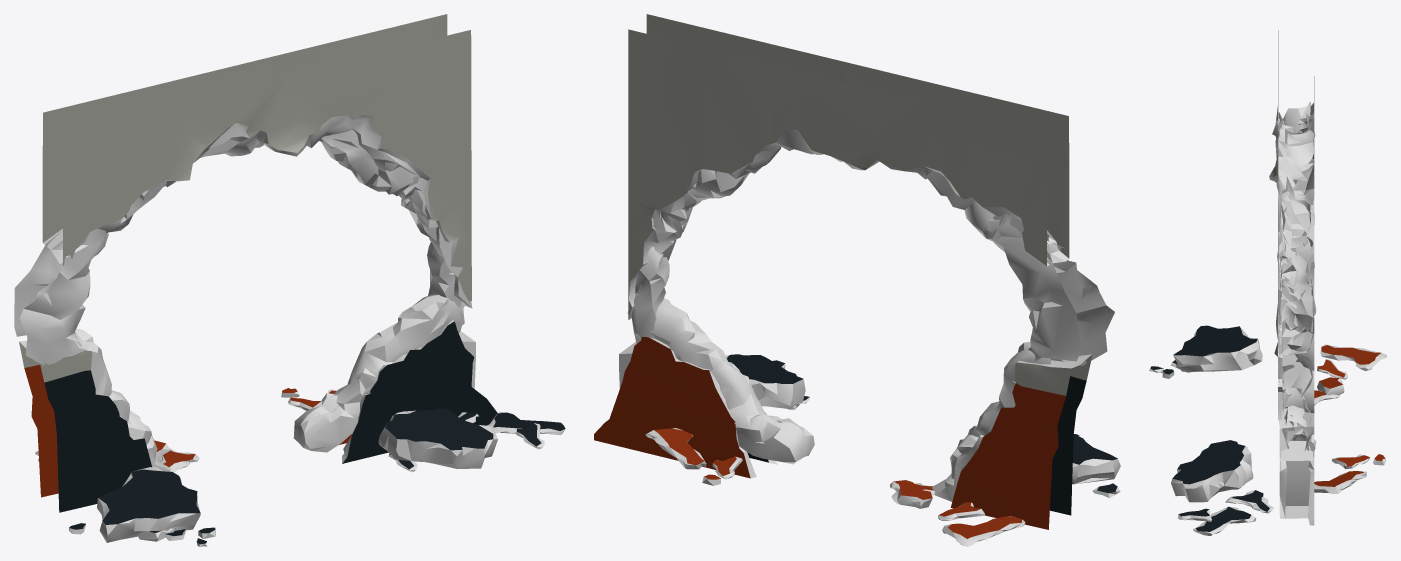
Rendered from SM_H_Building_Tide_Loungehall_10C_ATLAS.fbx.
3 renders of one model, left to right at view 1: azimuth 30°, elevation 25°; view 2: azimuth 150°, elevation 25°; view 3: azimuth 270°, elevation 25°, orthographic. The views are drawn at different scales.
Visible parts, largest first — view 1: SM_H_Building_Tide_Loungehall_10C_ATLAS; view 2: SM_H_Building_Tide_Loungehall_10C_ATLAS; view 3: SM_H_Building_Tide_Loungehall_10C_ATLAS.
Part boxes in pixels (x1,y1,x2,y2): SM_H_Building_Tide_Loungehall_10C_ATLAS: (14, 14, 565, 546); SM_H_Building_Tide_Loungehall_10C_ATLAS: (594, 14, 1120, 546); SM_H_Building_Tide_Loungehall_10C_ATLAS: (1149, 30, 1386, 535).
Bounding box in the file's own units: 731 × 347 × 561.
